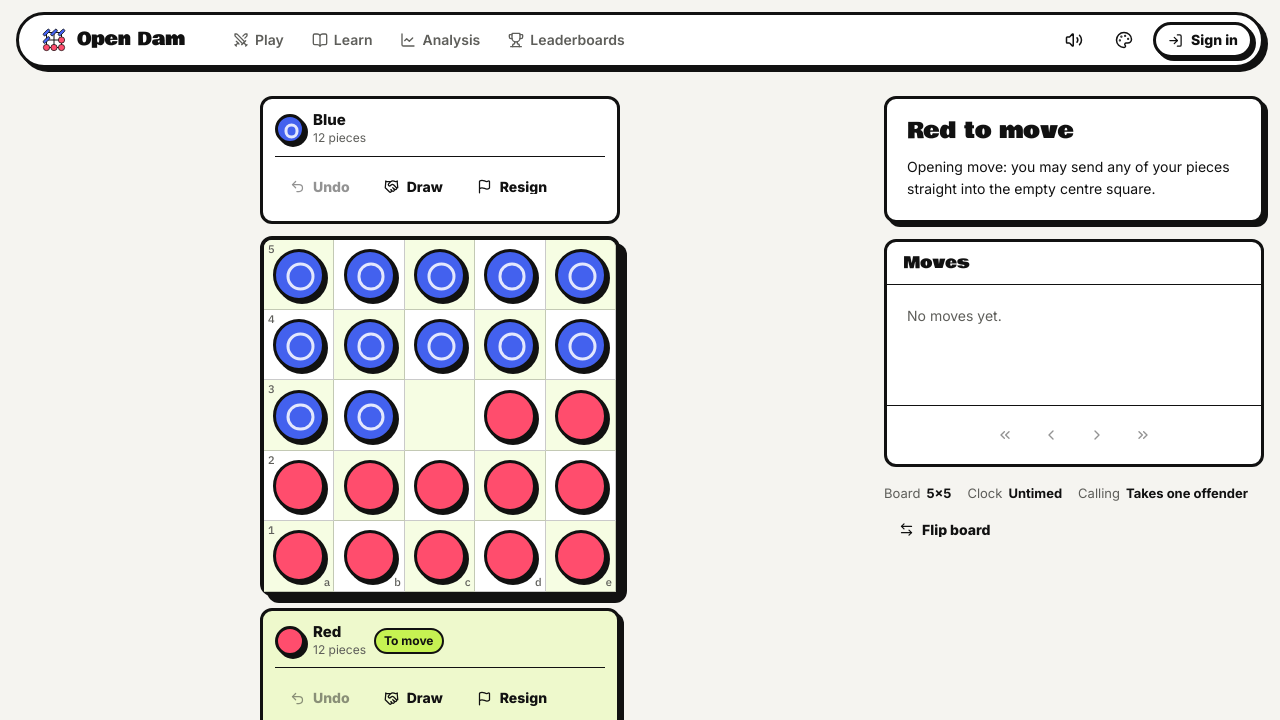
it: after a game › rematch starts a fresh game, not the finished one
Expected: the table is shown, [264,240,616,592]
Press the mouse on the cell named "d3, Red piece" at (510, 416), box [475,380,546,451]
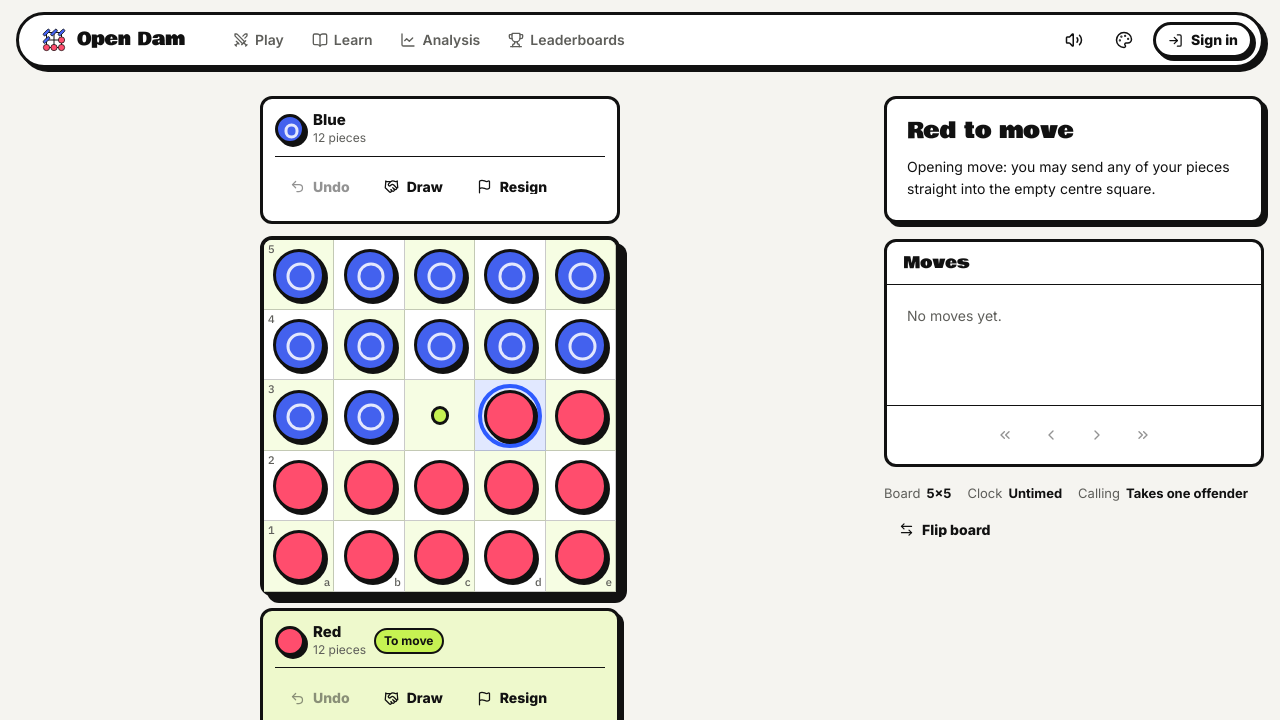
Click the cell named "c3, empty, you can move here".
click(440, 416)  # box [405,380,475,451]
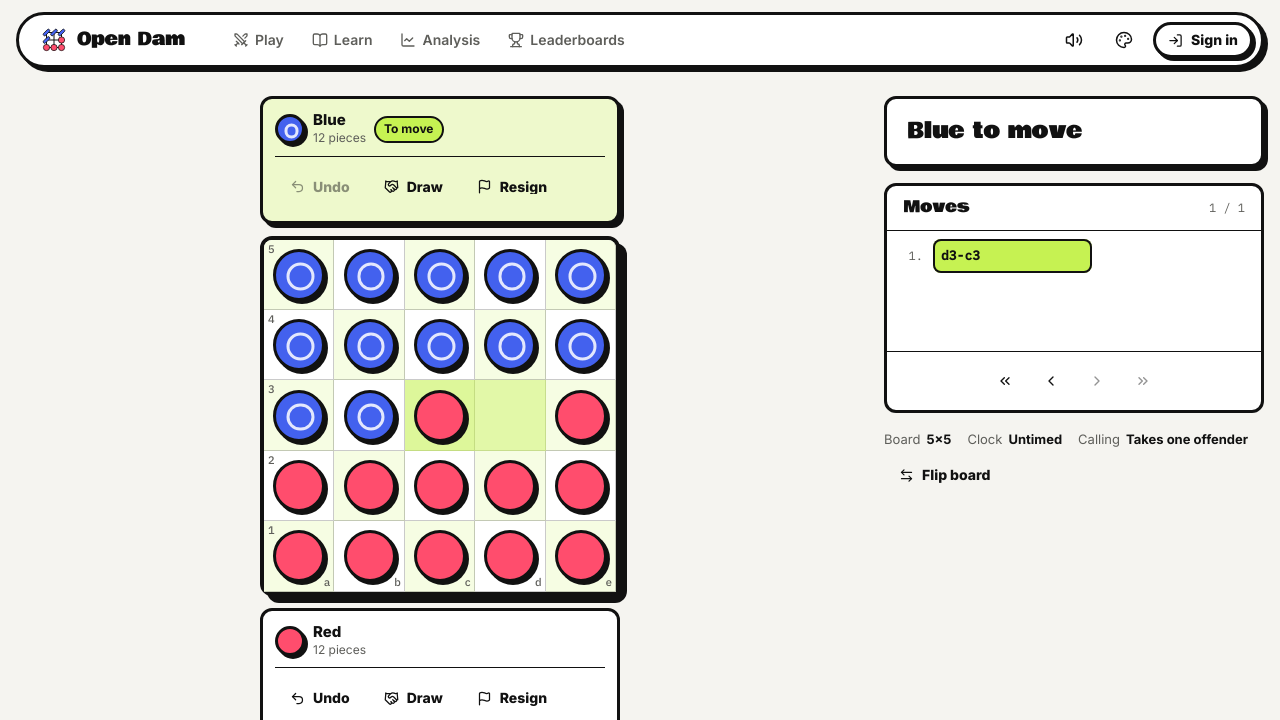
Click the 1st button "Resign".
click(512, 187)  # box [462,165,562,209]
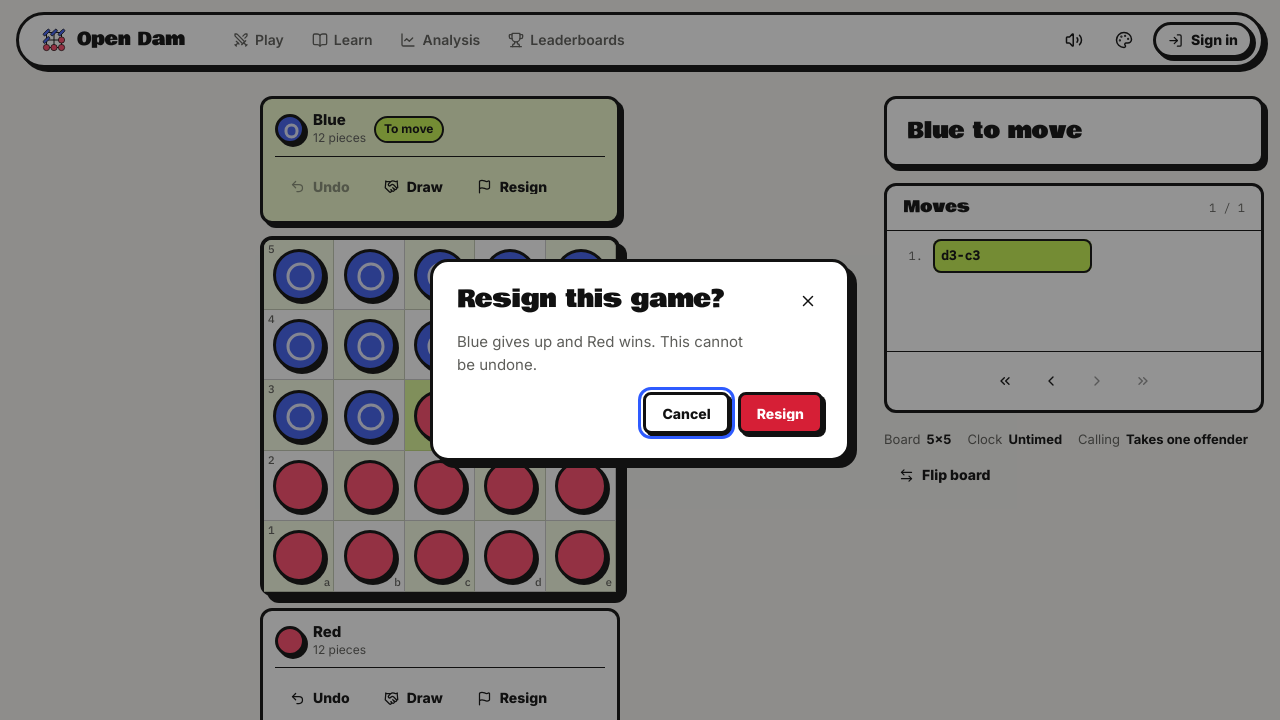
Click the button "Resign".
click(780, 413)  # box [738,392,823,434]
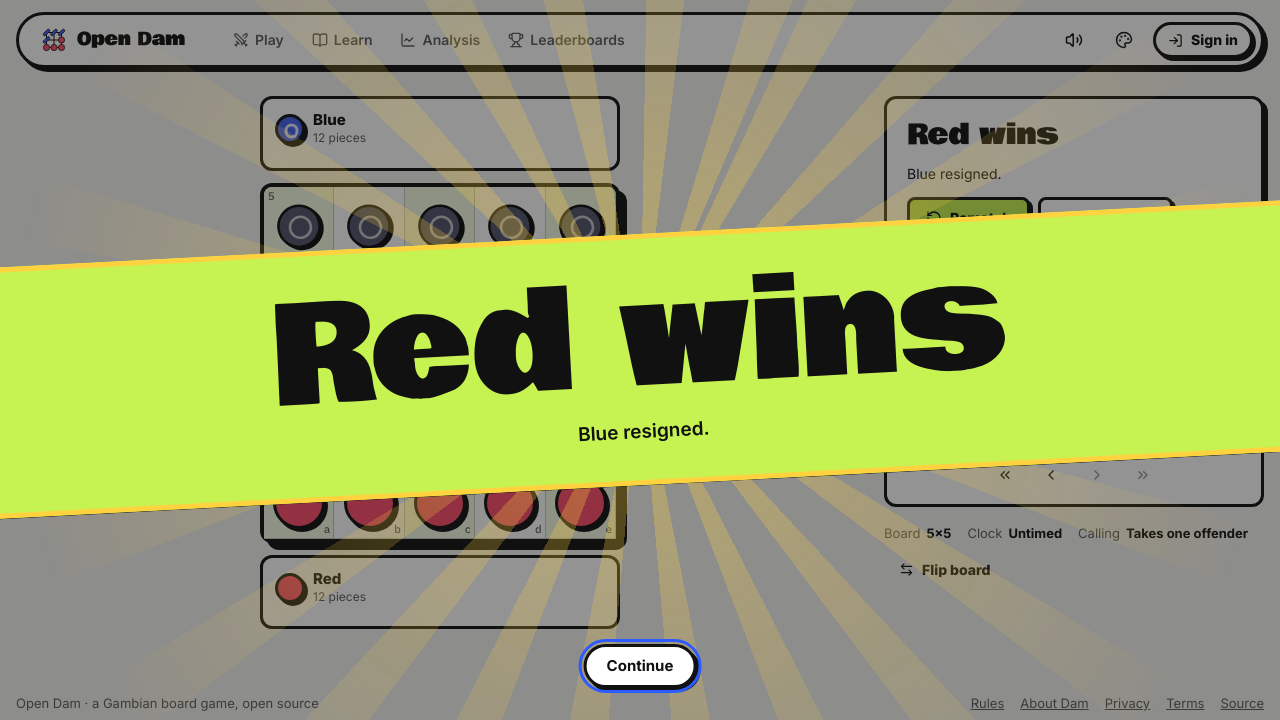
Result: the button "Continue" is shown at [584,644,696,688]
Press Escape
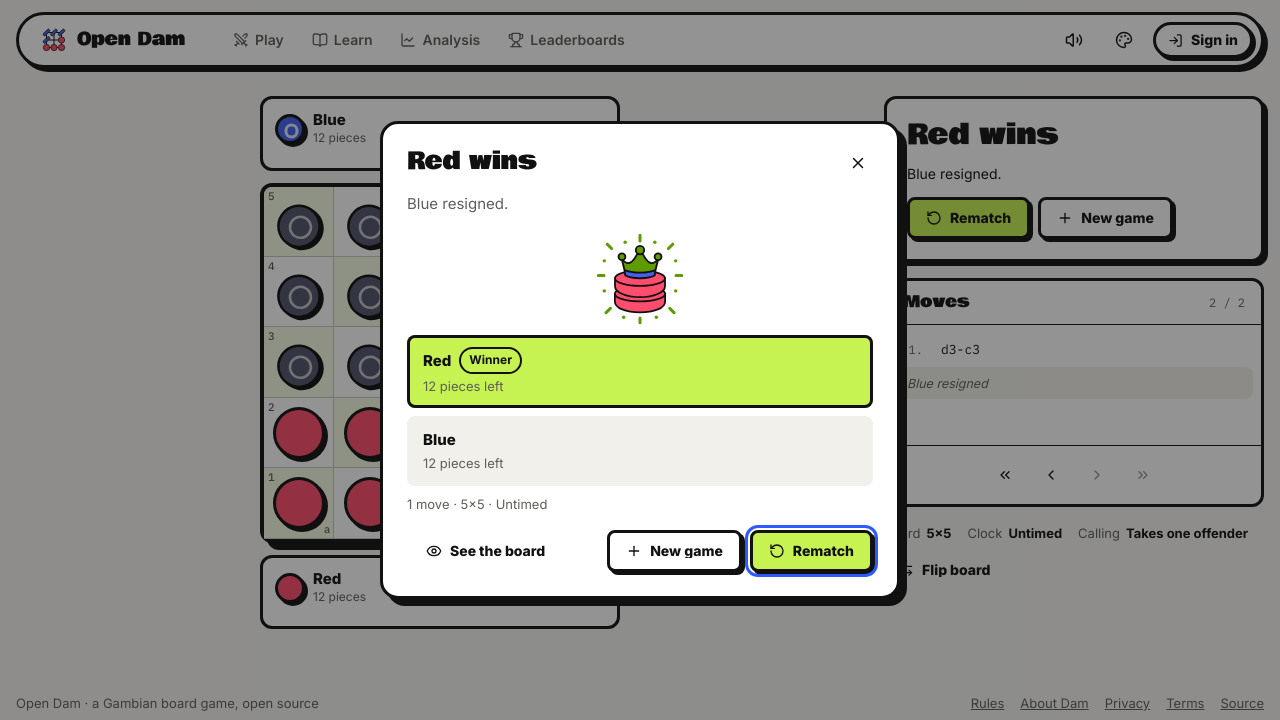
Click the button "Rematch".
click(811, 551)  # box [750,530,873,572]
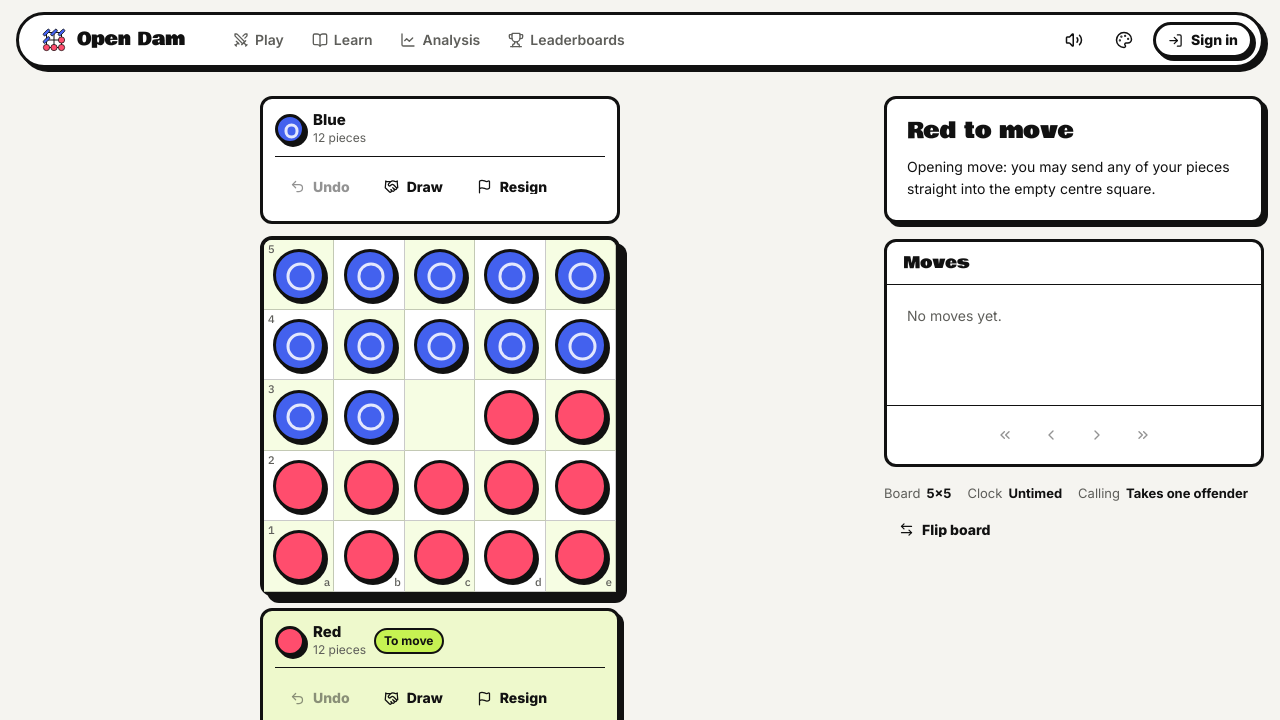
Result: the text "No moves yet." is shown at [907,307,1002,324]
